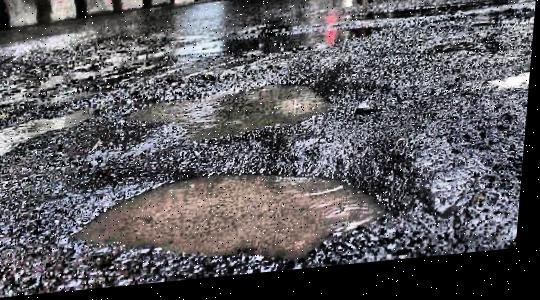pothole: (63, 146, 433, 287), (117, 70, 361, 154)
